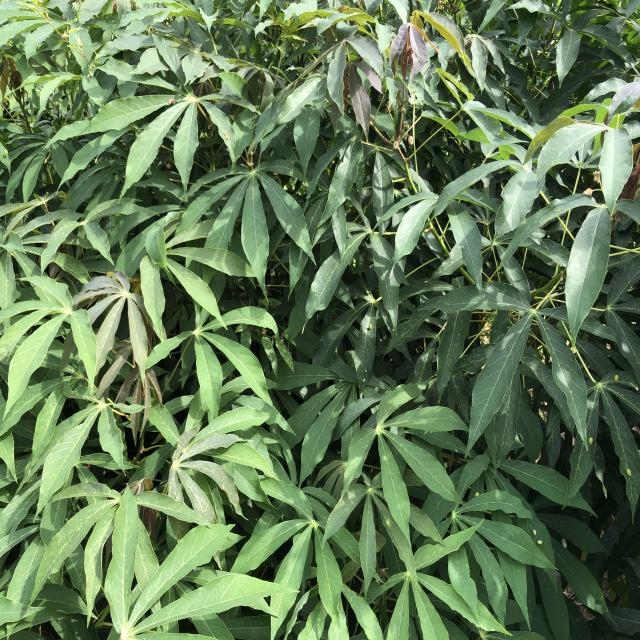Mosca: (124, 479, 169, 498), (532, 522, 551, 551), (574, 431, 596, 453), (352, 359, 368, 387), (471, 486, 490, 509), (359, 318, 379, 334), (604, 366, 620, 385), (620, 461, 630, 479)
